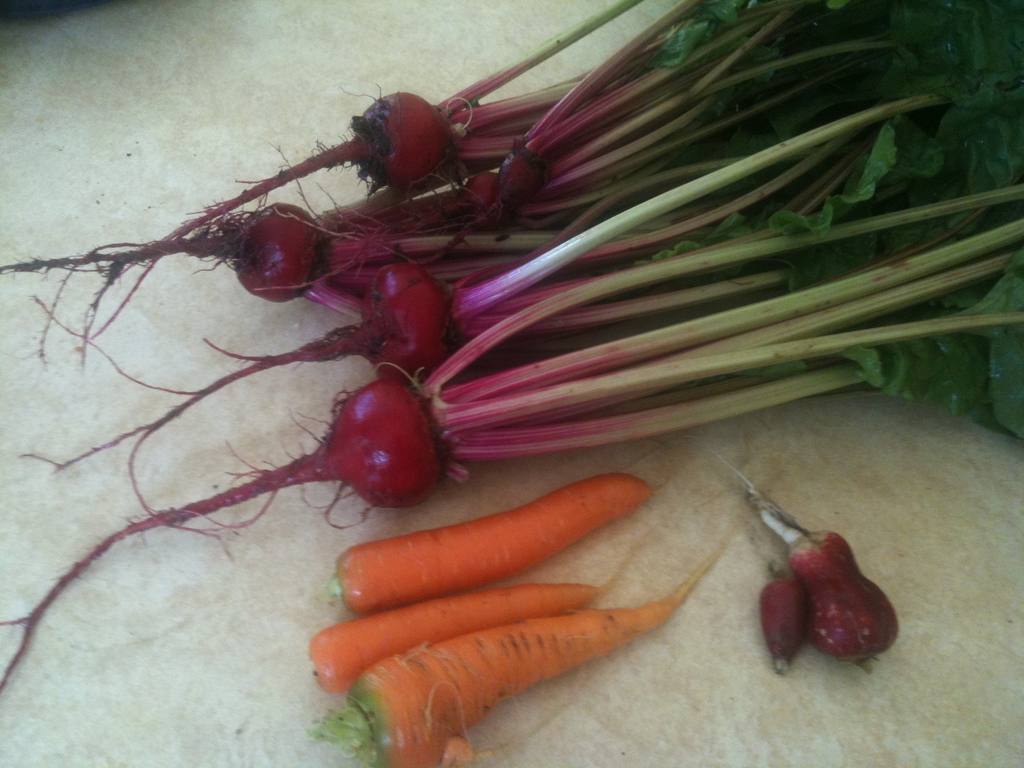Carrot: (296, 425, 807, 768)
